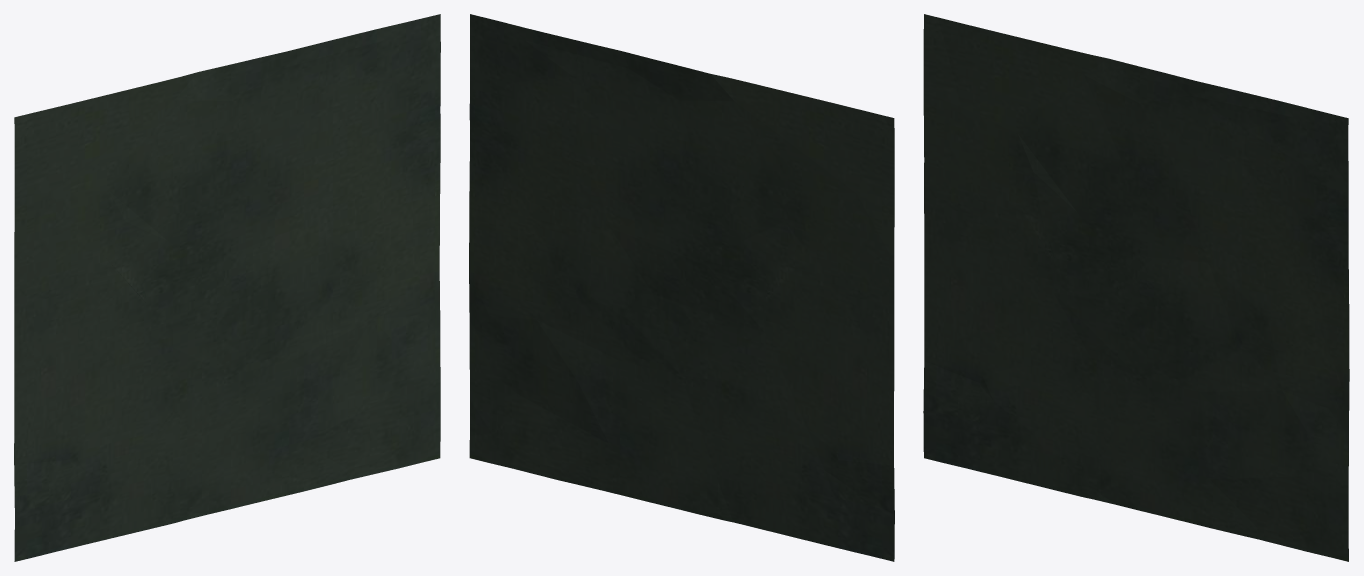
File: Tile_+032_+024_L21_00022300.obj
The picture shows the model from 3 angles, left to right: view 1: azimuth 30°, elevation 25°; view 2: azimuth 150°, elevation 25°; view 3: azimuth 330°, elevation 25°; orthographic projection.
Bounding box in the file's own units: 31.38 × 31.31 × 0.2191.
1 material, 1 textured.
